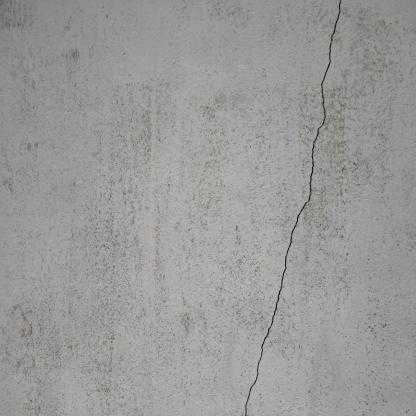crack: (242, 2, 343, 414)
